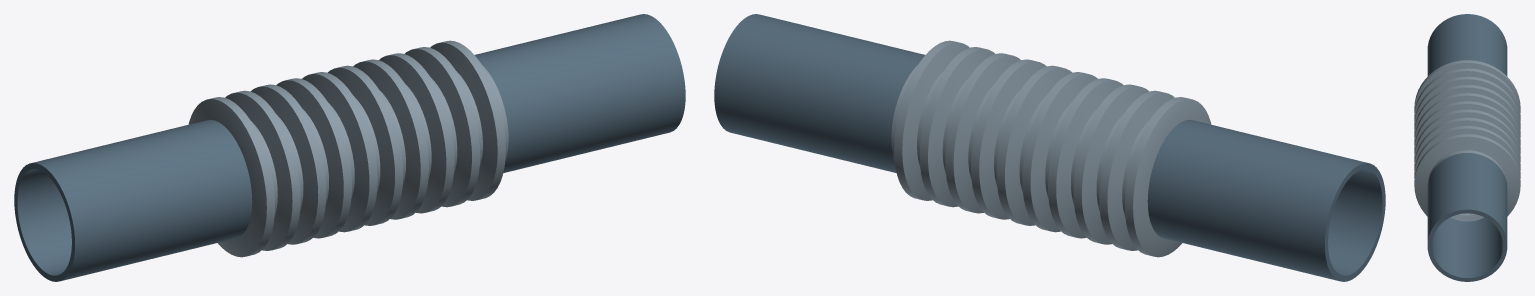
File: silf-dn50-L330-D57.glb
The picture shows the model from 3 angles, left to right: view 1: azimuth 30°, elevation 25°; view 2: azimuth 150°, elevation 25°; view 3: azimuth 270°, elevation 25°; orthographic projection. The views are drawn at different scales.
Visible parts, largest first — view 1: prokladka_silfon_1, patrubok_1, patrubok_2; view 2: prokladka_silfon_1, patrubok_1, patrubok_2; view 3: prokladka_silfon_1, patrubok_2, patrubok_1.
Boxes of the visible parts, left/top/right/bottom form: prokladka_silfon_1: left=188, top=40, right=508, bottom=257; patrubok_1: left=14, top=119, right=252, bottom=281; patrubok_2: left=475, top=14, right=685, bottom=172; prokladka_silfon_1: left=891, top=40, right=1211, bottom=257; patrubok_1: left=1147, top=119, right=1385, bottom=281; patrubok_2: left=714, top=14, right=924, bottom=172; prokladka_silfon_1: left=1414, top=60, right=1520, bottom=221; patrubok_2: left=1427, top=153, right=1507, bottom=281; patrubok_1: left=1427, top=14, right=1507, bottom=75.
Bounding box in the file's own units: 330 × 75.84 × 75.84.
